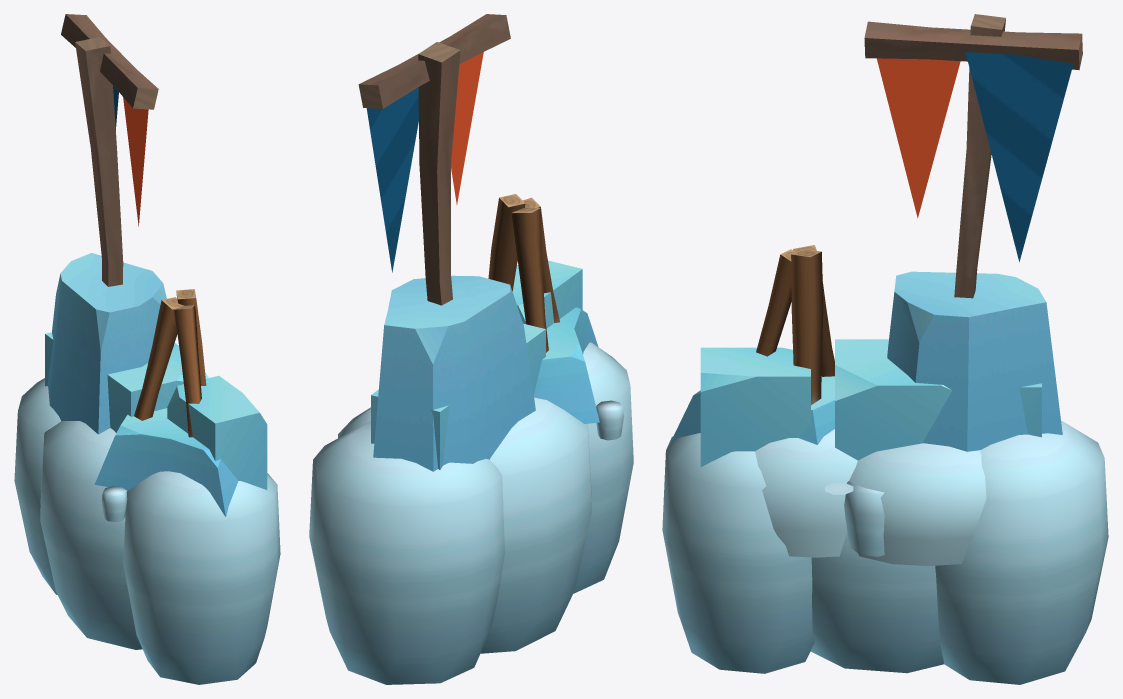
The model's file is Wall1B-004_40_21_3177.fbx.
3 views of the same model, side by side, from view 1: azimuth 30°, elevation 25°; view 2: azimuth 150°, elevation 25°; view 3: azimuth 270°, elevation 25° (orthographic). The views are drawn at different scales.
Visible parts, largest first — view 1: Snowpile (1), Snowpile (7), Rock (1), Wall, Rock (2), Wood1.002 (1), Snowpile (6), WoodTop (1), Wood2 (1), Wood1 (1), Flag1.001 (1), Snowpile (2) (+1 smaller); view 2: Snowpile (6), Rock (1), Snowpile (7), Wood1.002 (1), Snowpile (1), Flag1.001 (2), Rock (2), Wall, WoodTop (1), Wood2 (1), Flag1.001 (1), Wood3 (1) (+2 smaller); view 3: Wall, Snowpile (6), Snowpile (1), Rock (1), Snowpile (7), Flag1.001 (2), Flag1.001 (1), WoodTop (1), Wood1.002 (1), Wood3 (1), Snowpile (5), Rock (2) (+2 smaller).
Part boxes in pixels (x1=…): Snowpile (1): x1=123, y1=471, x2=280, y2=684; Snowpile (7): x1=40, y1=421, x2=142, y2=649; Rock (1): x1=47, y1=253, x2=173, y2=434; Wall: x1=45, y1=332, x2=267, y2=489; Rock (2): x1=94, y1=408, x2=238, y2=516; Wood1.002 (1): x1=75, y1=37, x2=123, y2=286; Snowpile (6): x1=14, y1=378, x2=60, y2=594; WoodTop (1): x1=61, y1=14, x2=158, y2=109; Wood2 (1): x1=134, y1=297, x2=183, y2=420; Wood1 (1): x1=174, y1=305, x2=201, y2=437; Flag1.001 (1): x1=123, y1=97, x2=148, y2=226; Snowpile (2): x1=101, y1=486, x2=127, y2=521; Snowpile (6): x1=309, y1=420, x2=504, y2=684; Rock (1): x1=373, y1=275, x2=535, y2=471; Snowpile (7): x1=480, y1=397, x2=591, y2=653; Wood1.002 (1): x1=418, y1=42, x2=460, y2=305; Snowpile (1): x1=573, y1=342, x2=633, y2=593; Flag1.001 (2): x1=366, y1=87, x2=418, y2=272; Rock (2): x1=534, y1=307, x2=599, y2=423; Wall: x1=338, y1=260, x2=582, y2=469; WoodTop (1): x1=358, y1=14, x2=510, y2=108; Wood2 (1): x1=511, y1=208, x2=548, y2=352; Flag1.001 (1): x1=451, y1=52, x2=483, y2=204; Wood3 (1): x1=488, y1=194, x2=525, y2=291; Wall: x1=700, y1=339, x2=1041, y2=566; Snowpile (6): x1=935, y1=420, x2=1108, y2=684; Snowpile (1): x1=662, y1=433, x2=814, y2=673; Rock (1): x1=887, y1=271, x2=1062, y2=451; Snowpile (7): x1=810, y1=532, x2=943, y2=673; Flag1.001 (2): x1=965, y1=52, x2=1073, y2=261; Flag1.001 (1): x1=876, y1=58, x2=960, y2=218; WoodTop (1): x1=864, y1=21, x2=1082, y2=70; Wood1.002 (1): x1=954, y1=14, x2=1005, y2=298; Wood3 (1): x1=791, y1=249, x2=823, y2=404; Snowpile (5): x1=844, y1=481, x2=884, y2=556; Rock (2): x1=671, y1=376, x2=834, y2=444.
Size of the model in its own units: 2.07 by 5.93 by 3.85.
